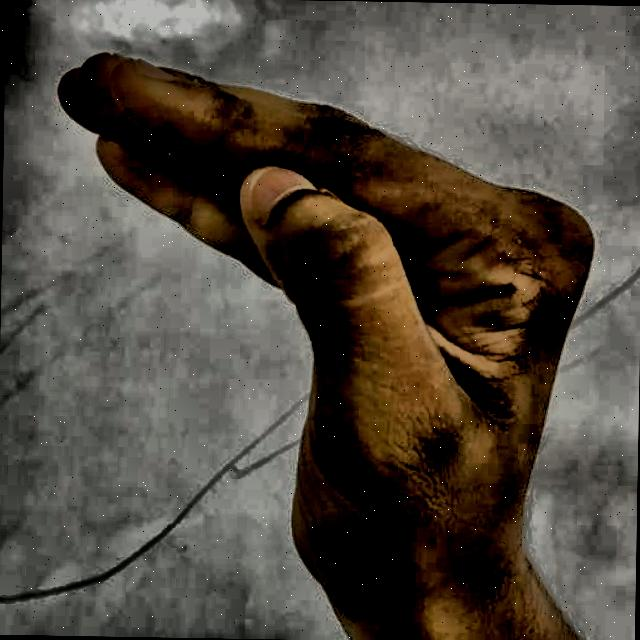Ga: (37, 33, 623, 614)
